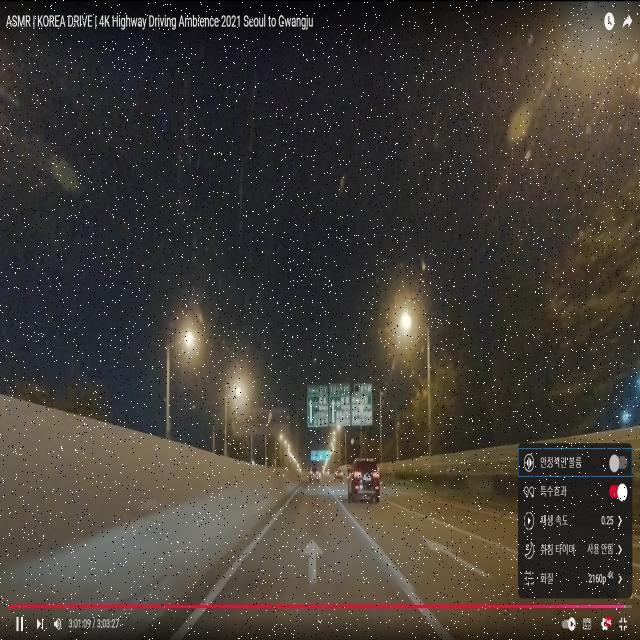forward: (208, 535, 420, 592)
